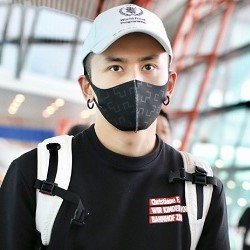mask: (85, 79, 171, 132)
